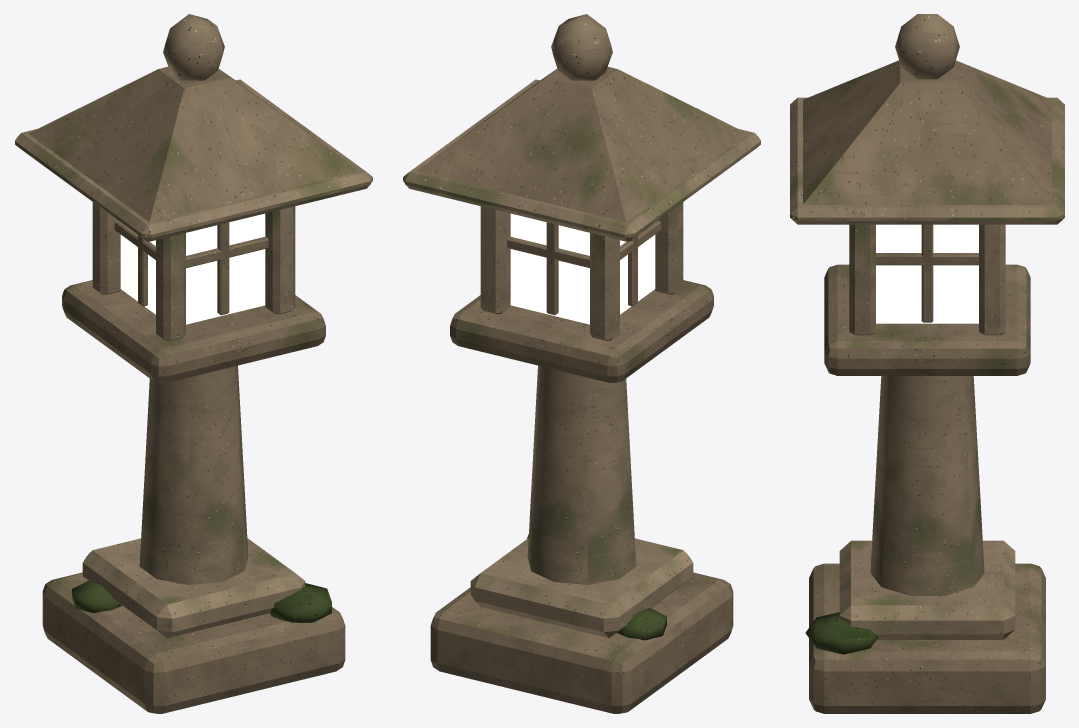
Rendered from env_lantern_stone.glb.
The picture shows the model from 3 angles, left to right: view 1: azimuth 30°, elevation 25°; view 2: azimuth 150°, elevation 25°; view 3: azimuth 270°, elevation 25°; orthographic projection. The views are drawn at different scales.
Visible parts, largest first — view 1: env_lantern_stone; view 2: env_lantern_stone; view 3: env_lantern_stone.
Boxes of the visible parts, box(x1,y1,x2,y2) form: env_lantern_stone: box(15, 14, 372, 713); env_lantern_stone: box(403, 14, 760, 713); env_lantern_stone: box(790, 14, 1064, 713).
Size of the model in its own units: 0.72 by 1.9 by 0.72.
Materials: 2 (2 with a texture image).
